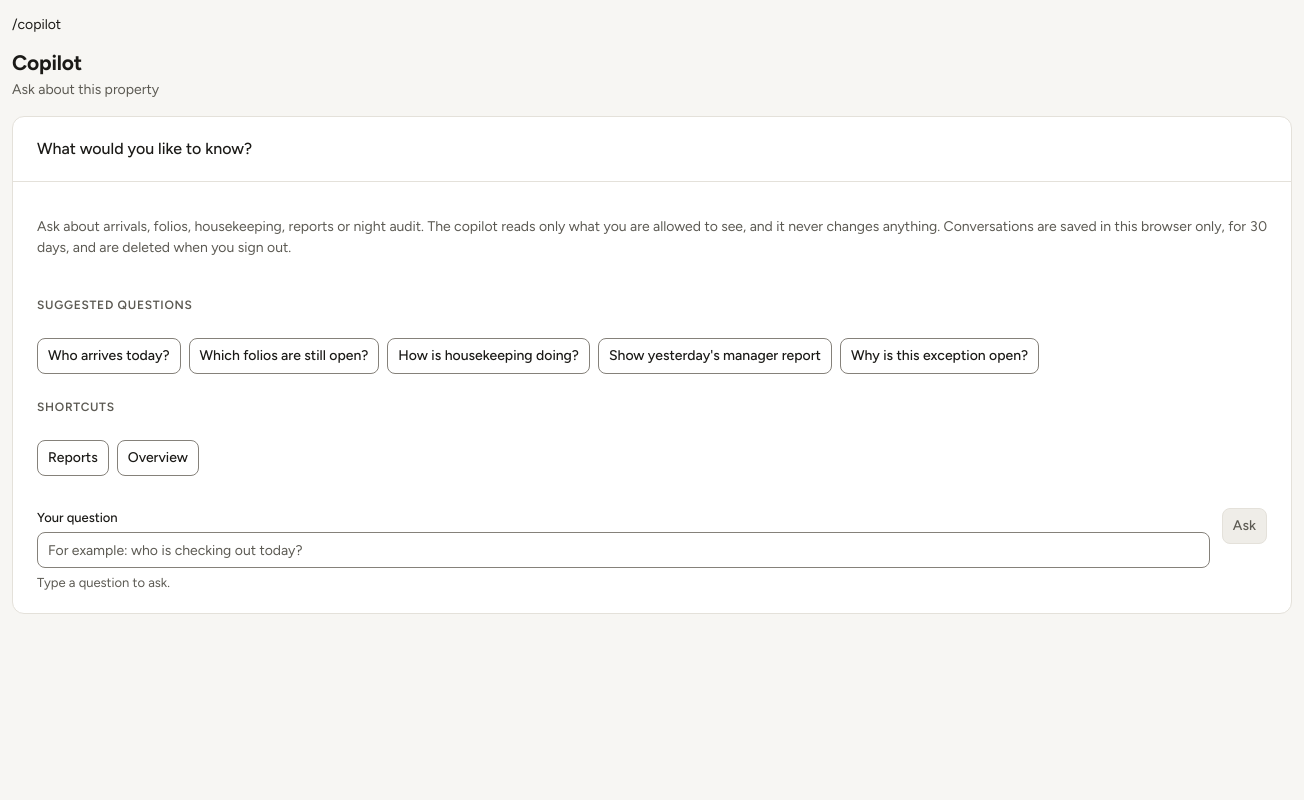
it: CopilotScreen (R4.16) › renders bold and bullets in an assistant answer but keeps a user turn literal
The width and height of the screenshot is (1304, 800).
Type "Show **x** please" into the field with test id "copilot-input" at (623, 550), box [37,532,1210,568]
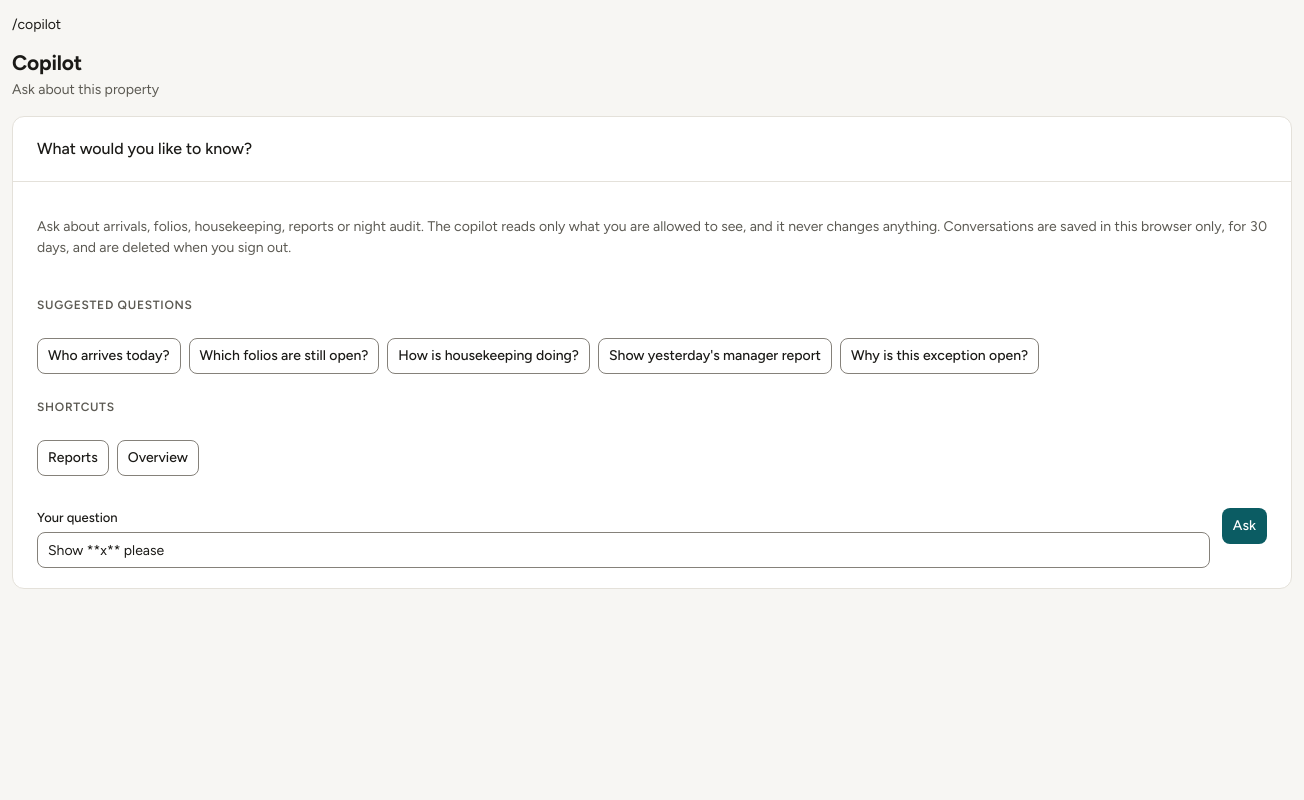
Click the button with test id "copilot-ask" at (1244, 526), box [1222,508,1267,544]
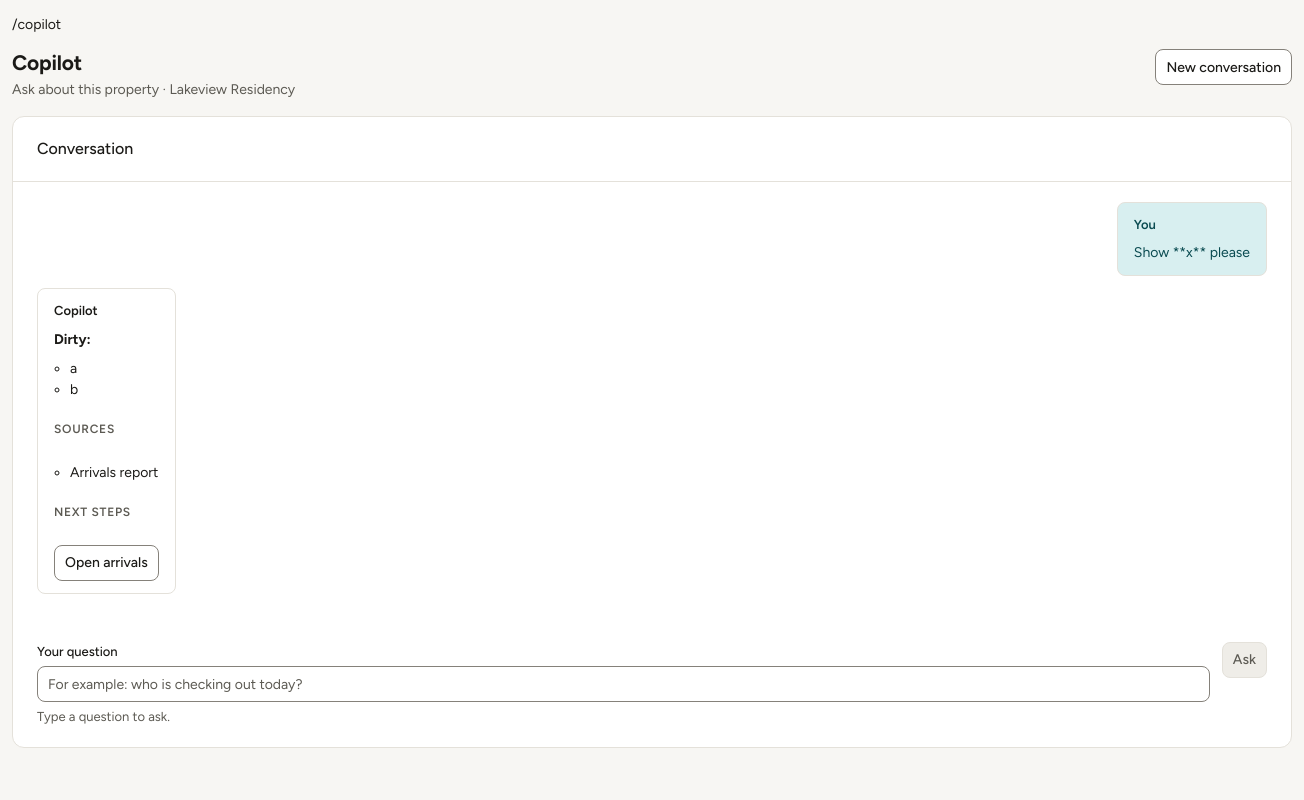
Expected: the element with test id "copilot-turn-assistant" does not show "**"
Expected: the list item with test id "copilot-turn-user" shows "Show **x** please", [1134,244,1250,262]
